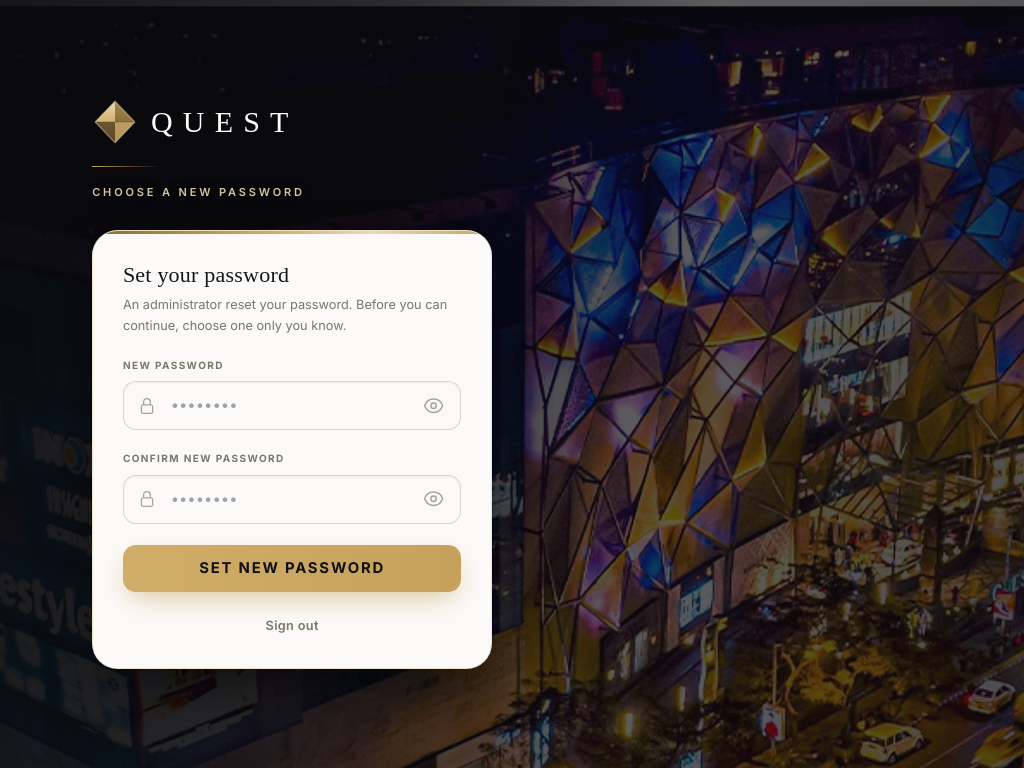
Test case: ForcePasswordChange › surfaces the server "not used before" refusal
Step 1. Type "brand-new-pass" into the password field labelled "New password" → (292, 406), box [123, 381, 461, 430]
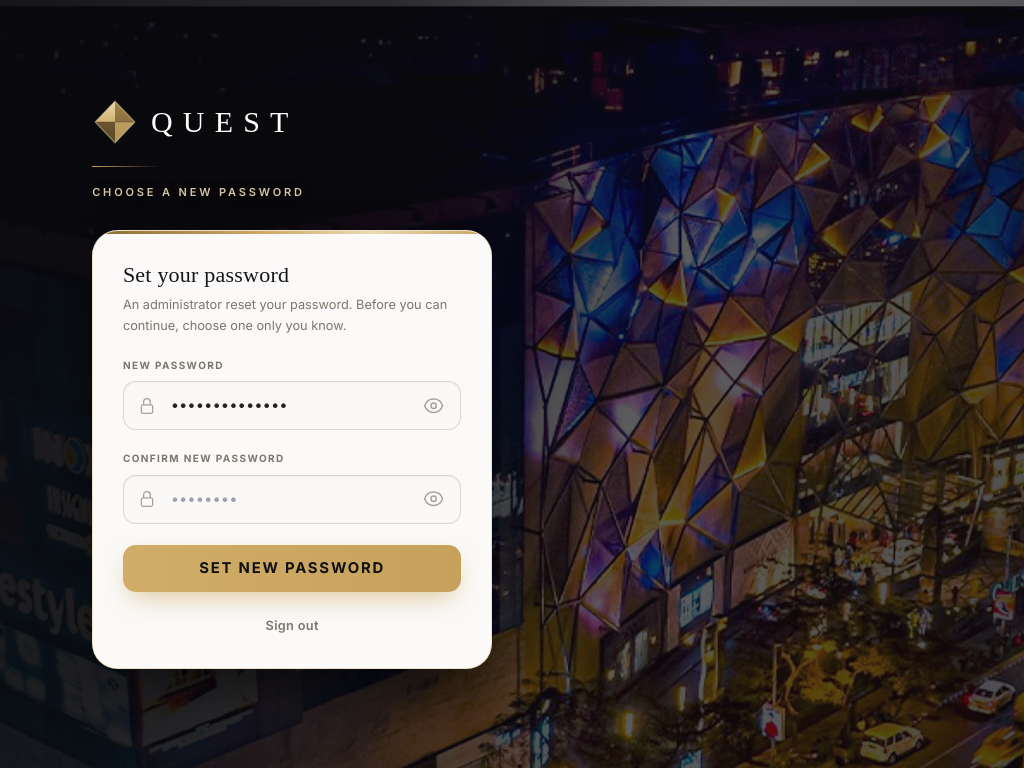
Step 2. Type "brand-new-pass" into the password field labelled "Confirm new password" → (292, 499), box [123, 475, 461, 524]
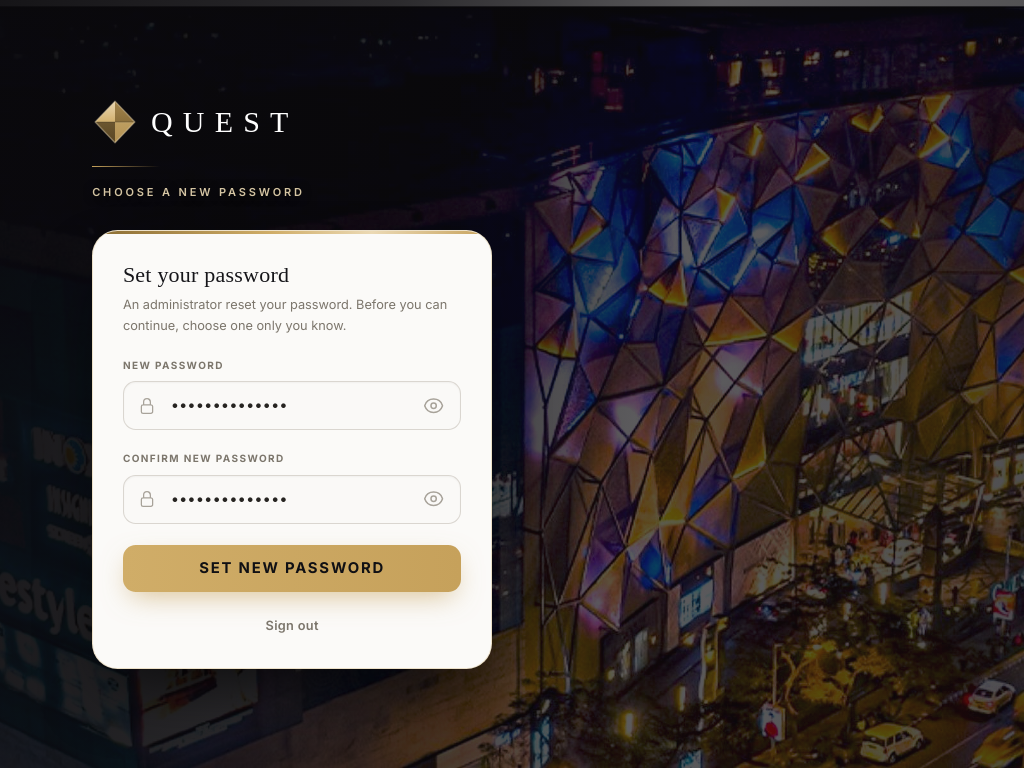
Step 3. Click the button "Set new password" → (292, 568), box [123, 545, 461, 592]
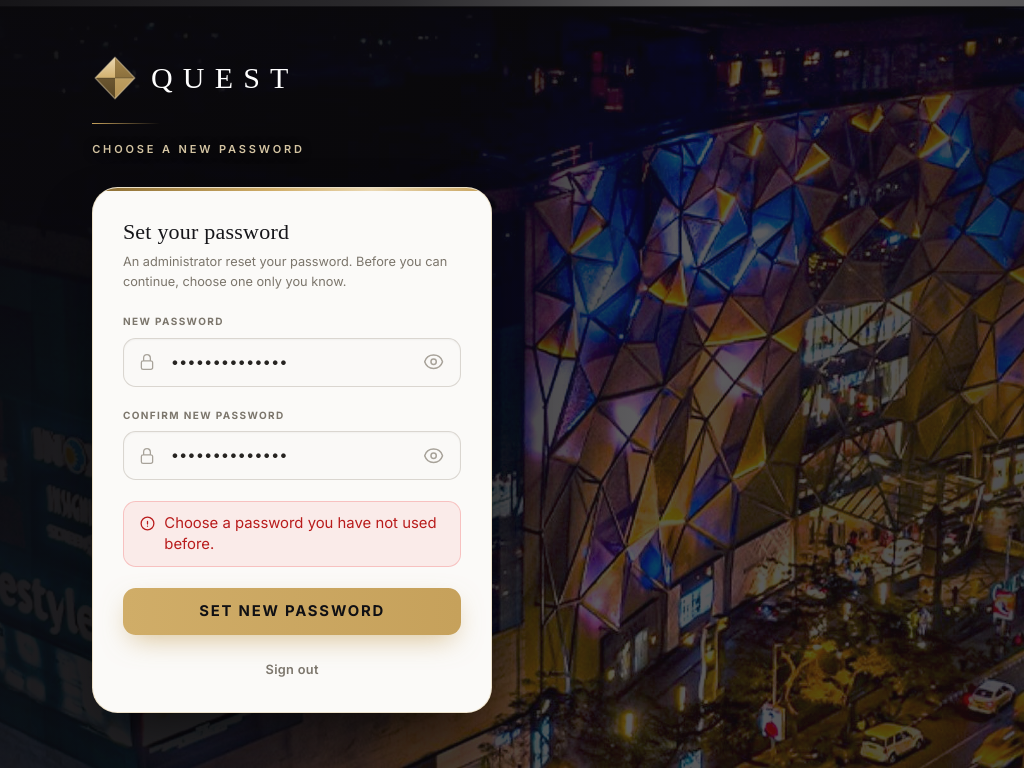
Expected: the text "Choose a password you have not used before." is shown, [123, 501, 461, 567]
